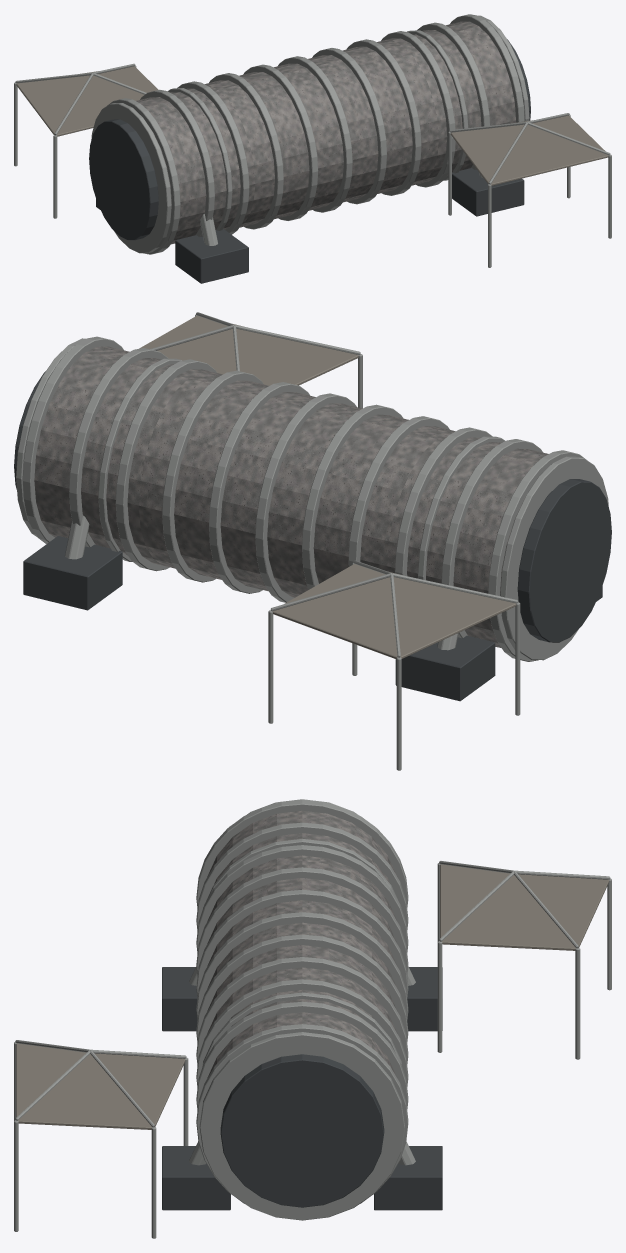
File: abandoned-camp.glb
The picture shows the model from 3 angles, top to bottom: view 1: azimuth 30°, elevation 25°; view 2: azimuth 150°, elevation 25°; view 3: azimuth 270°, elevation 25°; orthographic projection. The views are drawn at different scales.
Parts seen in each view (by area): view 1: abandoned-camp • editable solid geometry; view 2: abandoned-camp • editable solid geometry; view 3: abandoned-camp • editable solid geometry.
Part boxes in pixels (x1=…): abandoned-camp • editable solid geometry: x1=14, y1=14, x2=611, y2=283; abandoned-camp • editable solid geometry: x1=14, y1=312, x2=611, y2=770; abandoned-camp • editable solid geometry: x1=14, y1=799, x2=611, y2=1238.
Size of the model in its own units: 5.94 by 2 by 5.64.
Materials: 4 (1 with a texture image).
